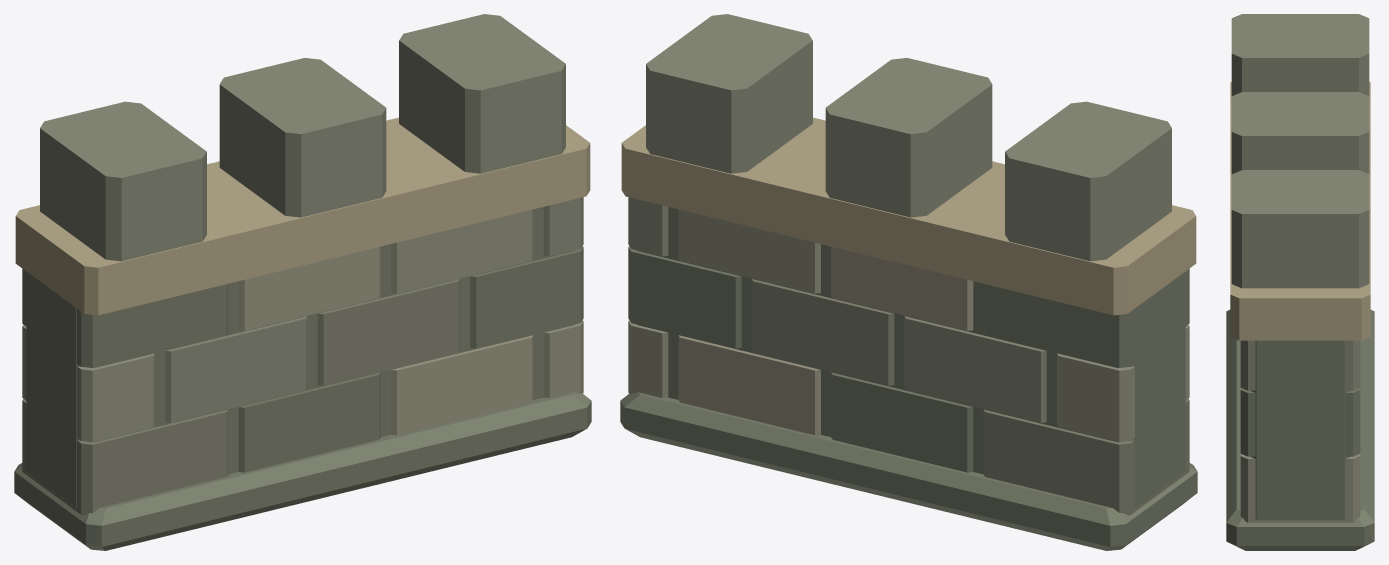
File: wall-segment.glb
3 views of the same model, side by side, from view 1: azimuth 30°, elevation 25°; view 2: azimuth 150°, elevation 25°; view 3: azimuth 270°, elevation 25° (orthographic). The views are drawn at different scales.
Visible parts, largest first — view 1: Wall_Segment; view 2: Wall_Segment; view 3: Wall_Segment.
Part boxes in pixels (x1,y1,x2,y2): Wall_Segment: (14,14,591,550); Wall_Segment: (620,14,1197,550); Wall_Segment: (1226,14,1374,550).
Size of the model in its own units: 2 by 1.4 by 0.57.
